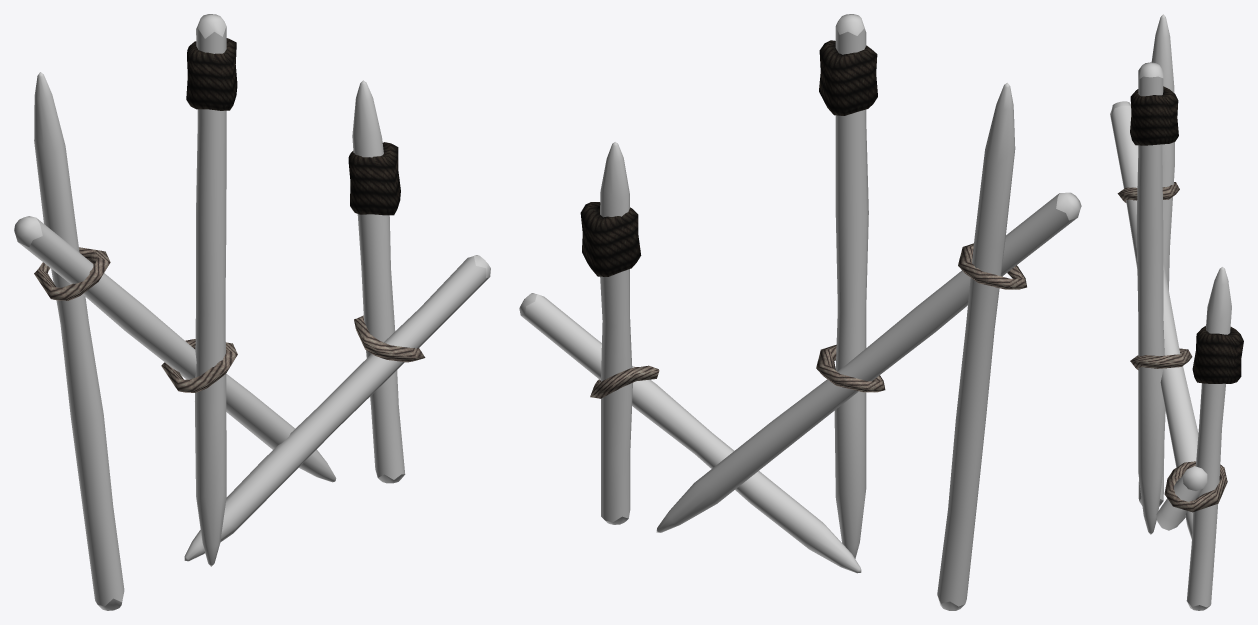
File: TorchFence_B.FBX
3 renders of one model, left to right at view 1: azimuth 30°, elevation 25°; view 2: azimuth 150°, elevation 25°; view 3: azimuth 270°, elevation 25°, orthographic. The views are drawn at different scales.
Visible parts, largest first — view 1: TorchFence_B; view 2: TorchFence_B; view 3: TorchFence_B.
Boxes of the visible parts, x1,y1,x2,y2 form: TorchFence_B: (14,14,490,610); TorchFence_B: (519,14,1081,610); TorchFence_B: (1110,14,1243,610).
Size of the model in its own units: 213 by 225 by 56.1.
